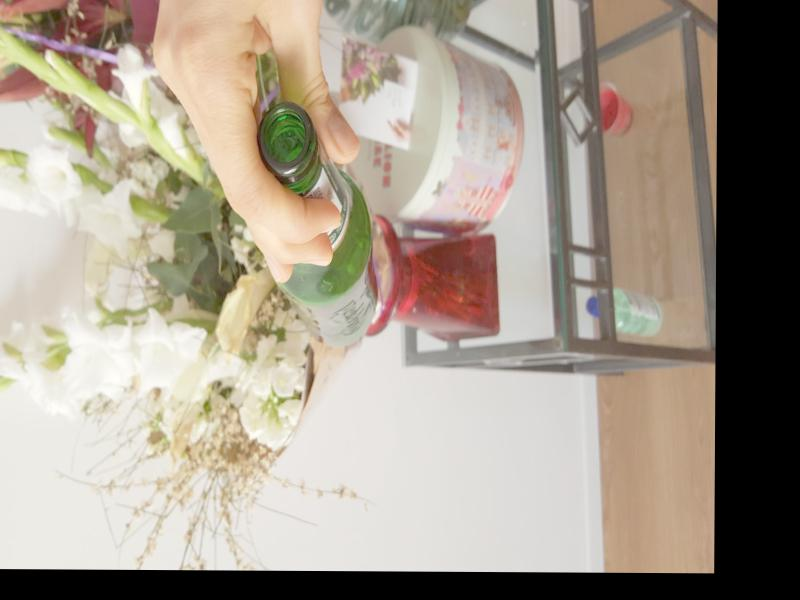Beer: (257, 102, 380, 347)
